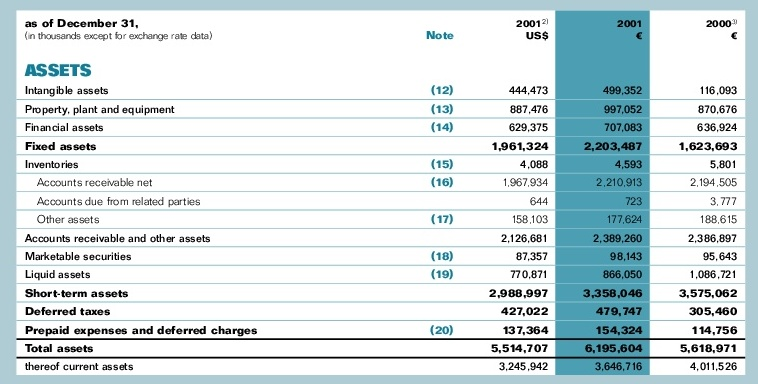table: (0, 0, 758, 384)
